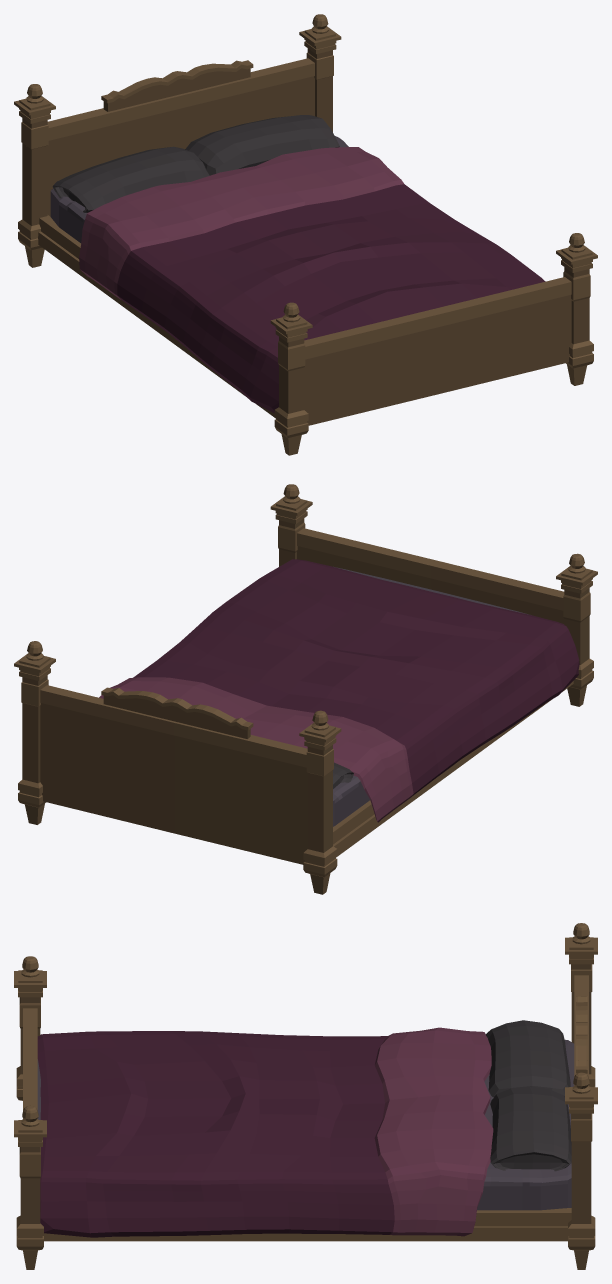
3 renders of one model, top to bottom at view 1: azimuth 30°, elevation 25°; view 2: azimuth 150°, elevation 25°; view 3: azimuth 270°, elevation 25°, orthographic. The views are drawn at different scales.
Parts seen in each view (by area): view 1: Comforter_Cube.005, BedFrame_Cube.001, Pillow2_Cube.010, Pillow_Cube.008, Mattress_Cube.004; view 2: Comforter_Cube.005, BedFrame_Cube.001, Mattress_Cube.004; view 3: Comforter_Cube.005, BedFrame_Cube.001, Pillow2_Cube.010, Pillow_Cube.008, Mattress_Cube.004.
Part boxes in pixels (x1,y1,x2,y2): Comforter_Cube.005: (79,147,545,413); BedFrame_Cube.001: (14,14,597,455); Pillow2_Cube.010: (185,115,339,175); Pillow_Cube.008: (52,146,209,212); Mattress_Cube.004: (50,136,348,243); Comforter_Cube.005: (99,559,579,822); BedFrame_Cube.001: (14,484,597,894); Mattress_Cube.004: (333,566,528,826); Comforter_Cube.005: (37,1027,493,1237); BedFrame_Cube.001: (14,923,597,1269); Pillow2_Cube.010: (490,1087,571,1171); Pillow_Cube.008: (485,1020,570,1097); Mattress_Cube.004: (37,1039,574,1210).
Bounding box in the file's own units: 2.83 × 1.56 × 4.26.
